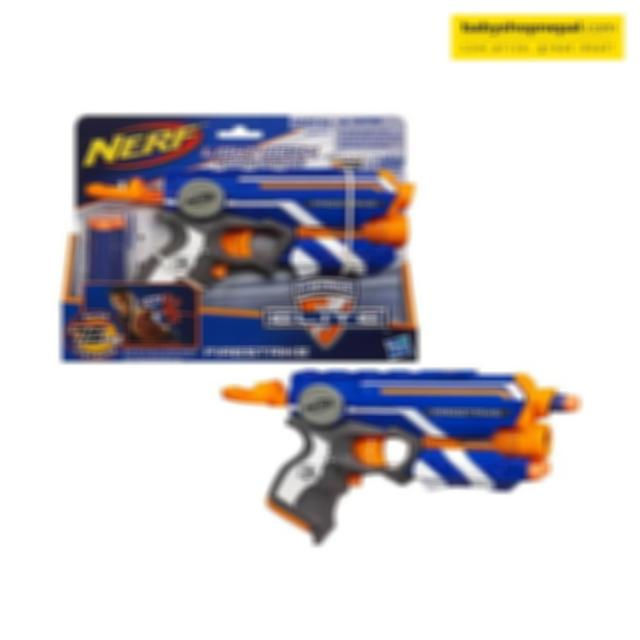Nerf gun: (217, 362, 582, 545), (87, 160, 422, 301)
